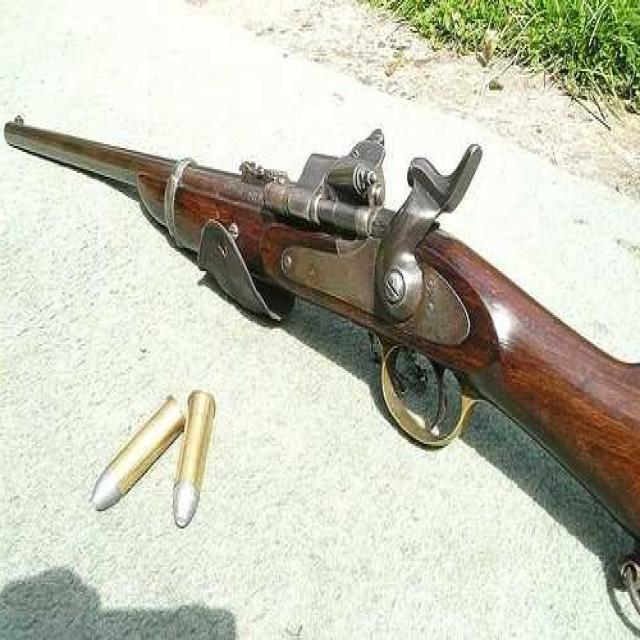heavyweapon: (4, 62, 640, 594)
